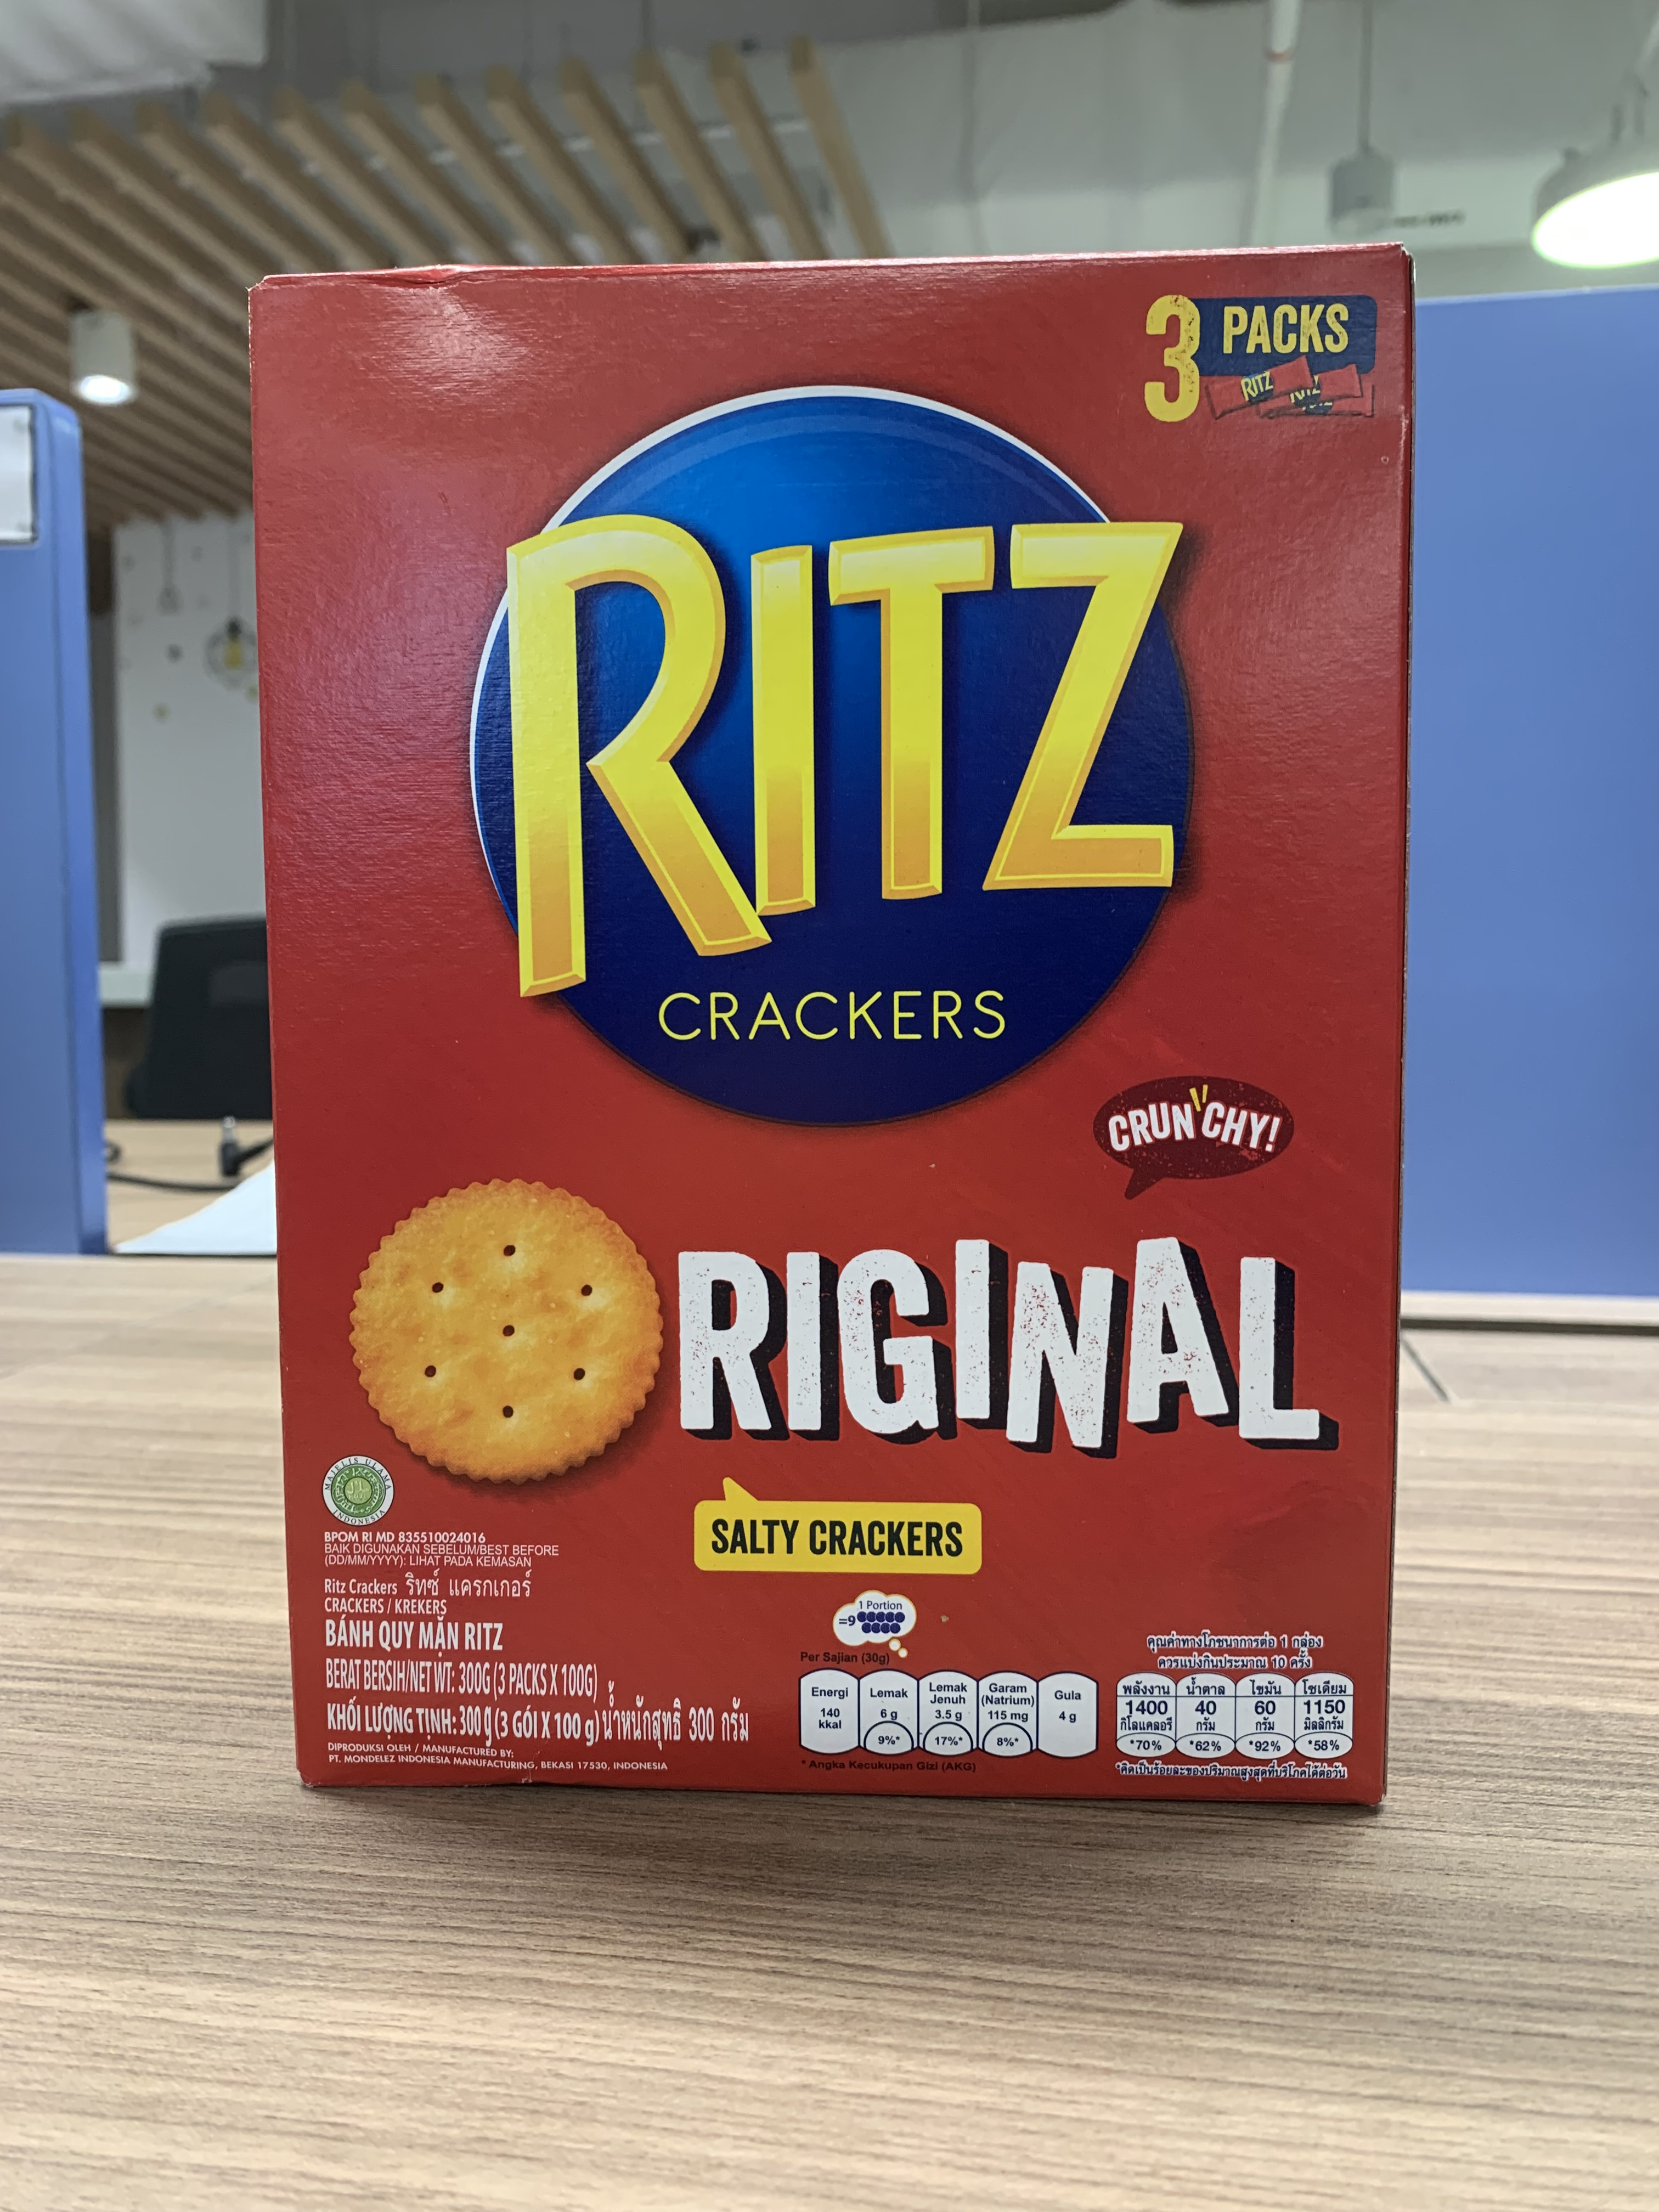crackers_300g-399g: (314, 280, 1387, 1785)
